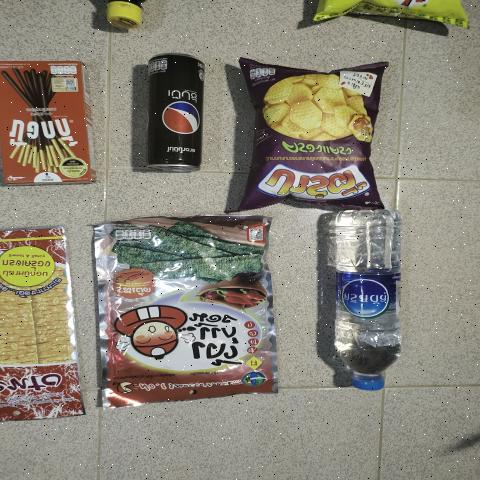crystal: (325, 206, 402, 392)
party_purple: (236, 62, 374, 207)
pepsi_black: (147, 54, 217, 187)
pokki: (0, 59, 92, 184)
taokaenoi: (106, 222, 282, 405)
